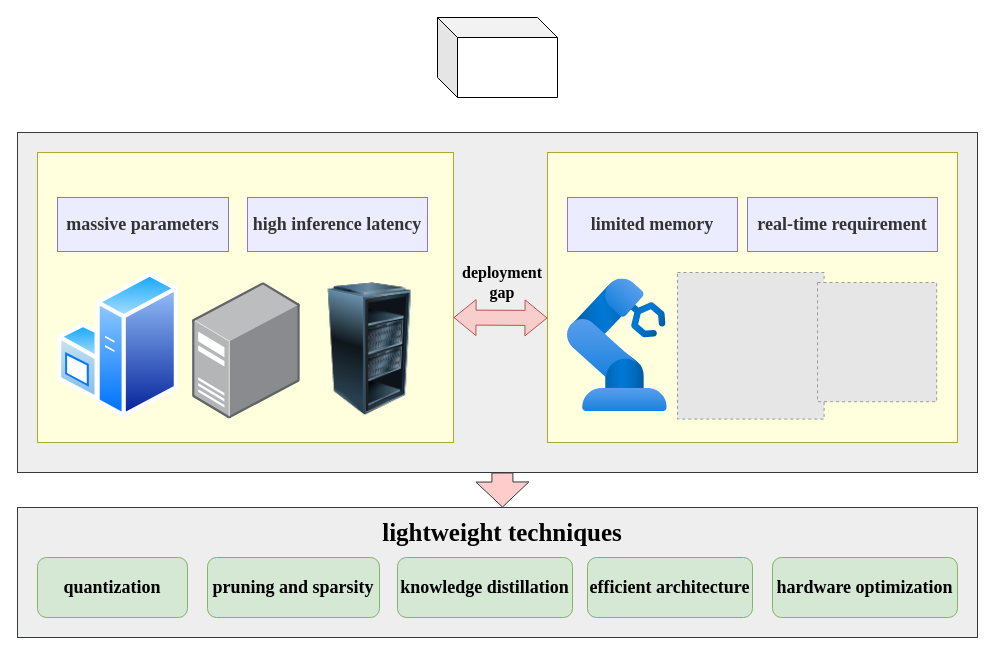
Image size: 995x655. Some labels were removed from this diagram. Grey dashed boxes stand in for pictures. The shapes that lost their labels are listed below. From the top down, each one's box as (x1, y1, x2, y2) in pixels, then its label:
(36, 152, 454, 442): cloud model
(546, 152, 958, 442): edge robot
